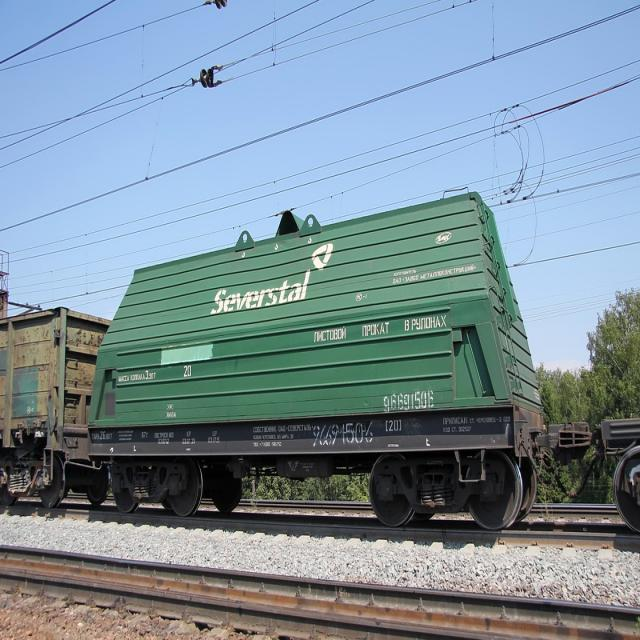wagon: (312, 420, 377, 447), (382, 387, 437, 413)
